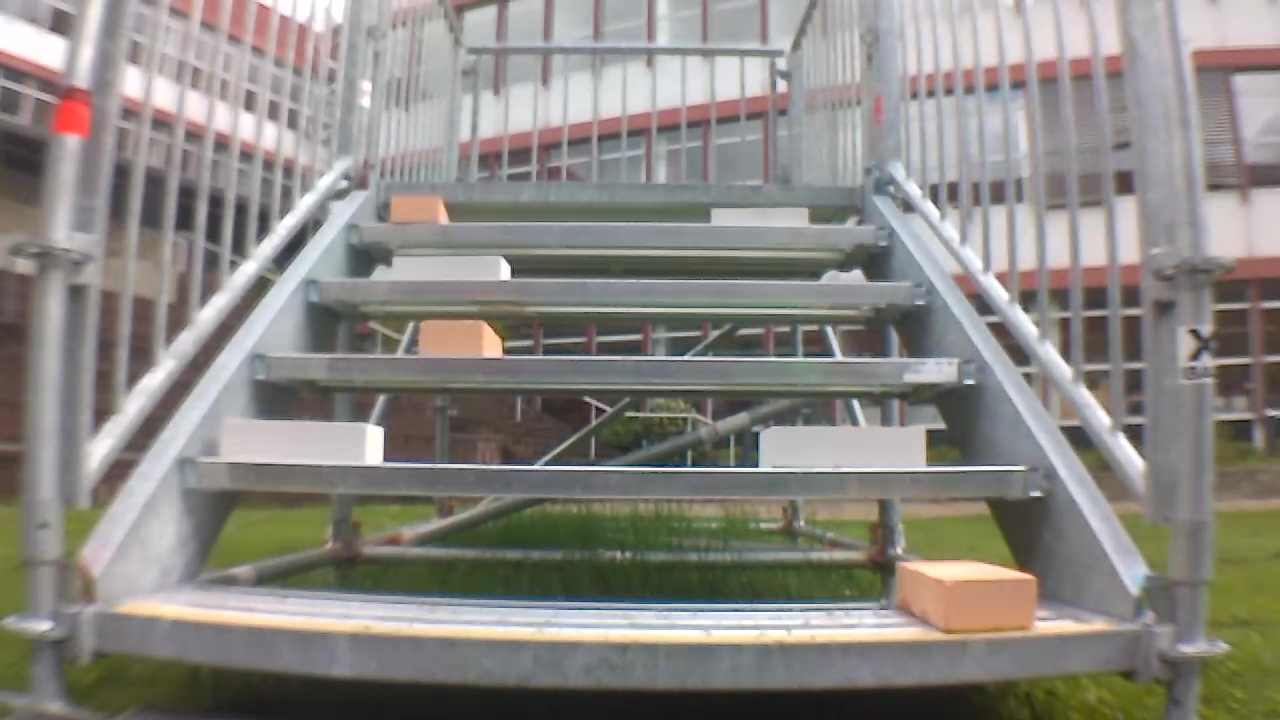brick: (897, 561, 1036, 632), (220, 419, 382, 463), (758, 428, 924, 468), (420, 321, 502, 357), (395, 256, 510, 279), (392, 195, 447, 223), (712, 208, 806, 224)
edge: (96, 613, 1145, 689), (182, 457, 1044, 497), (252, 354, 983, 382), (309, 279, 936, 304), (348, 223, 896, 248), (384, 181, 866, 205)
stairs: (3, 1, 1231, 714)
steps: (95, 169, 1153, 702)
